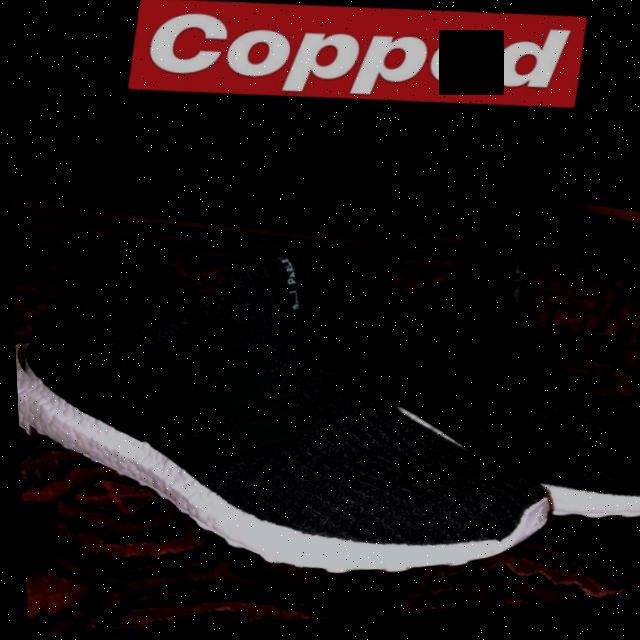shoe: (7, 182, 541, 623), (284, 229, 640, 624)
